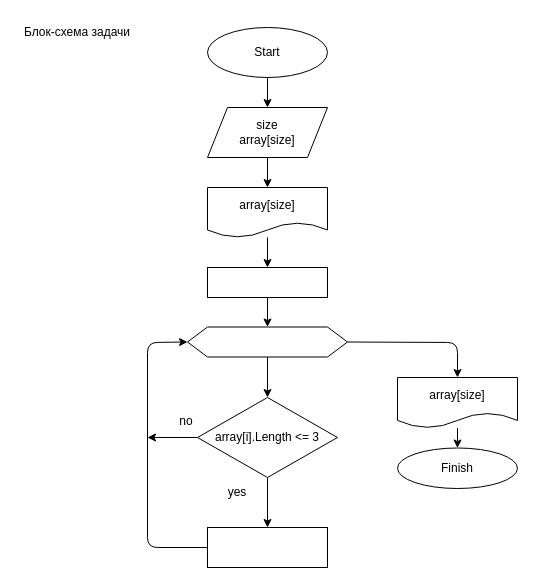
Image size: 535x585. Some labels were removed from this diagram. The centre of each missing label's shape, as x and y in pixels:
"array[size] = array[i] size++" belongs at point 267,547.
"i = 0,array.Length - 1, 1" belongs at point 267,341.
"size = 0" belongs at point 267,282.
